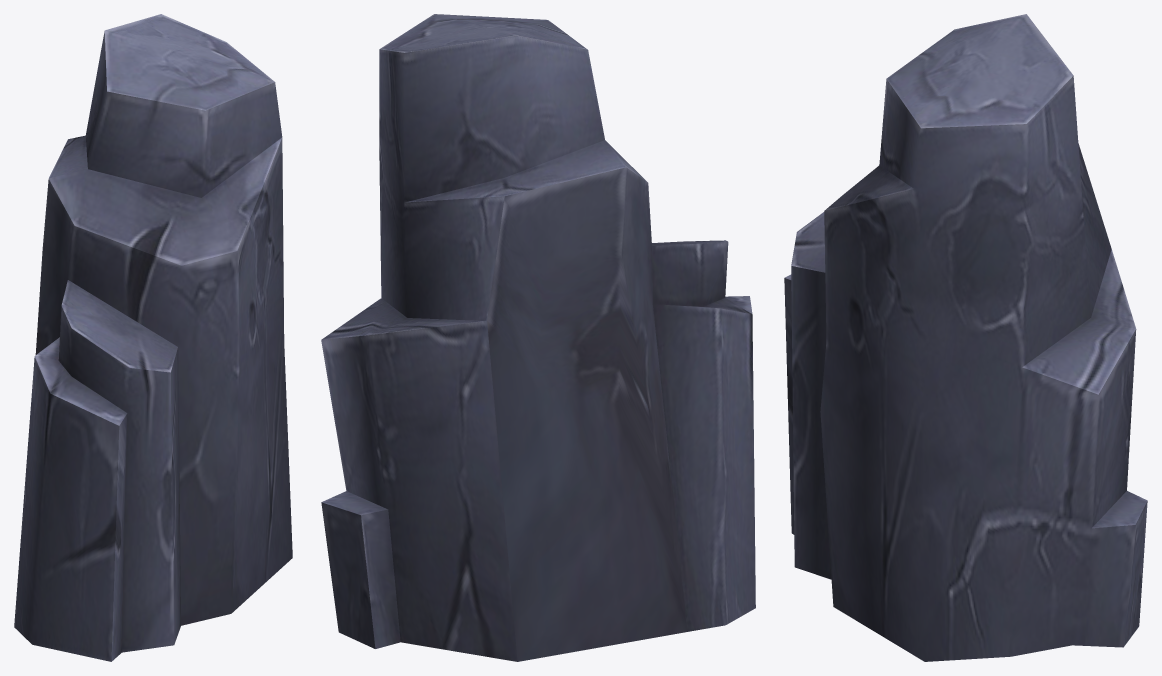
Rendered from RockCliff04.FBX.
3 views of the same model, side by side, from view 1: azimuth 30°, elevation 25°; view 2: azimuth 150°, elevation 25°; view 3: azimuth 270°, elevation 25° (orthographic). The views are drawn at different scales.
Visible parts, largest first — view 1: RockCliff04; view 2: RockCliff04; view 3: RockCliff04.
Part boxes in pixels (<box>): RockCliff04: <box>14,14,292,661</box>; RockCliff04: <box>321,14,755,661</box>; RockCliff04: <box>784,14,1147,661</box>.
Bounding box in the file's own units: 3.99 × 4.06 × 7.07.
1 material, 1 textured.
